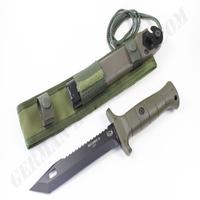knife: (28, 73, 187, 198)
